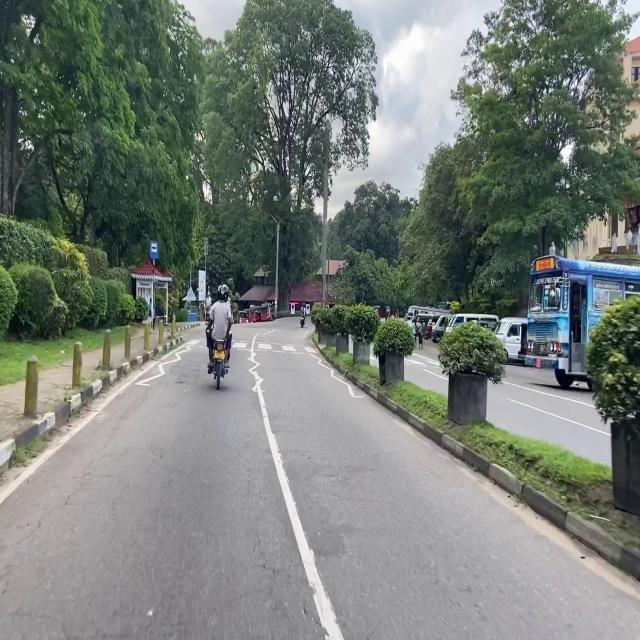bus: (525, 255, 640, 389)
motorcycle: (213, 340, 228, 389), (300, 315, 305, 327)
person: (206, 284, 232, 374), (416, 319, 423, 348), (155, 299, 164, 317), (410, 321, 416, 338), (301, 300, 306, 315)
three wheeler: (427, 314, 439, 339), (260, 303, 273, 321), (249, 306, 261, 322), (374, 305, 380, 318)
van: (495, 317, 527, 362), (446, 314, 498, 332), (432, 315, 449, 341)
